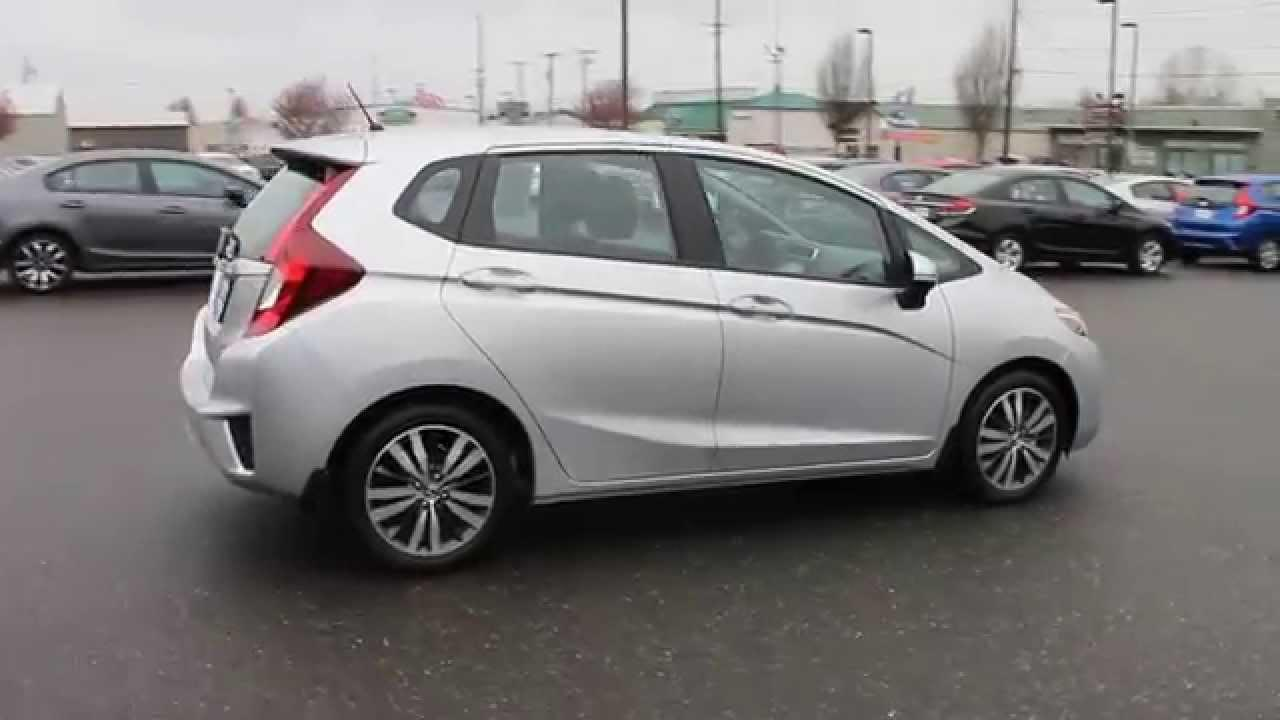Hatchback: (163, 103, 1143, 575)
